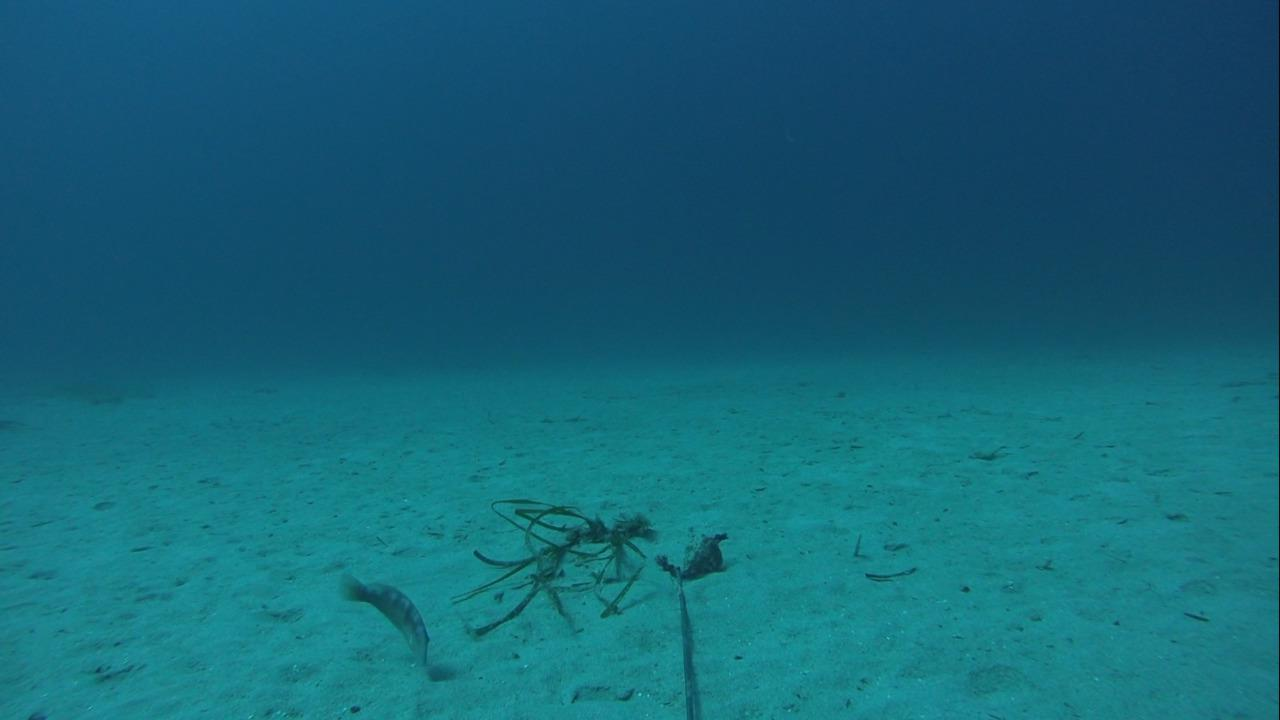raor: (337, 567, 433, 669)
